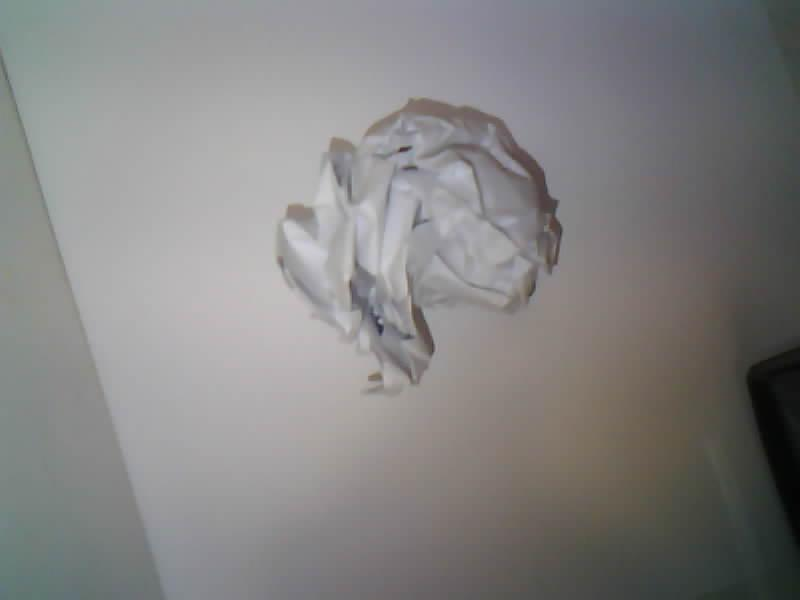biodegradable: (277, 99, 560, 391)
